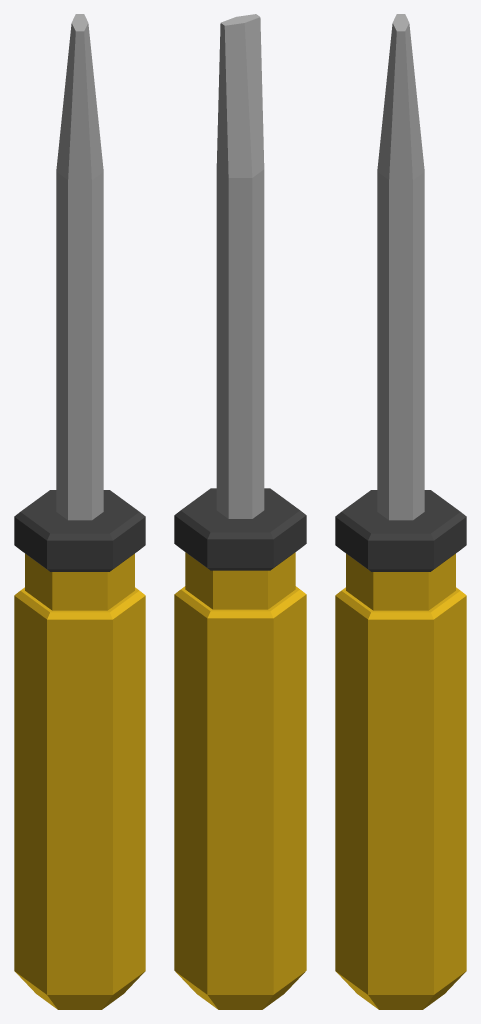
Rendered from Screwdriver.fbx.
3 views of the same model, side by side, from view 1: azimuth 90°, elevation 25°; view 2: azimuth 210°, elevation 25°; view 3: azimuth 270°, elevation 25° (orthographic).
Parts seen in each view (by area): view 1: Screwdriver; view 2: Screwdriver; view 3: Screwdriver.
Part boxes in pixels (box(x1,y1,x2,y2)): Screwdriver: box(14, 14, 145, 1009); Screwdriver: box(174, 14, 306, 1009); Screwdriver: box(335, 14, 466, 1009).
Size of the model in its own units: 6.34 by 59.55 by 7.32.
